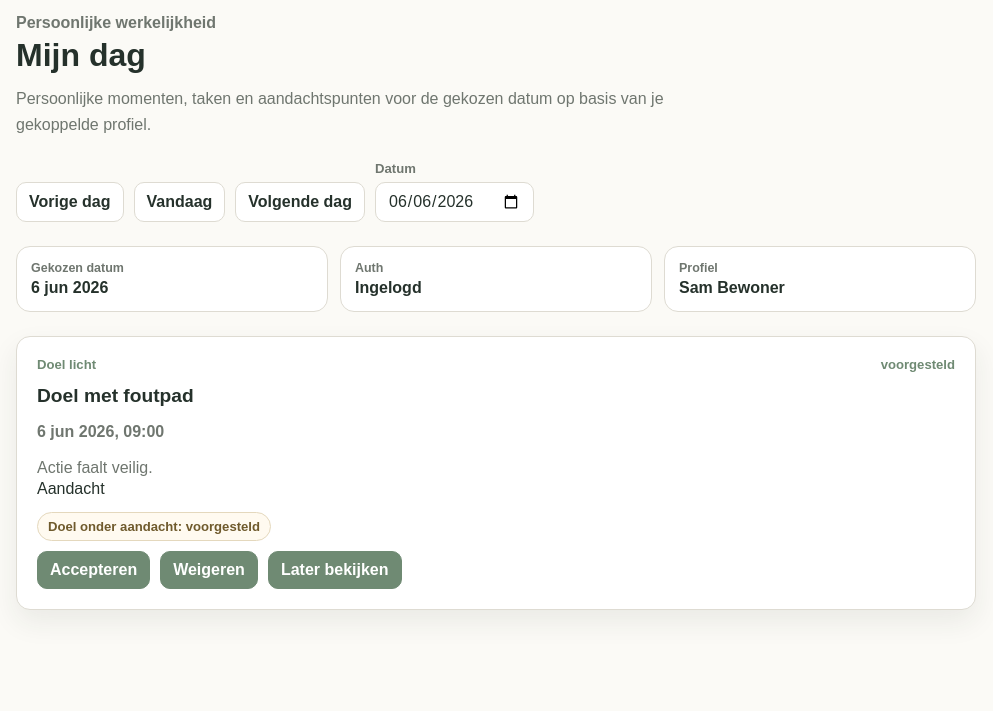
Scenario: Mijn dag overzicht › toont een rustige foutmelding wanneer een doelacceptatieactie mislukt
The width and height of the screenshot is (993, 711).
Click the button "Accepteren".
click(94, 570)  # box [37,551,150,589]
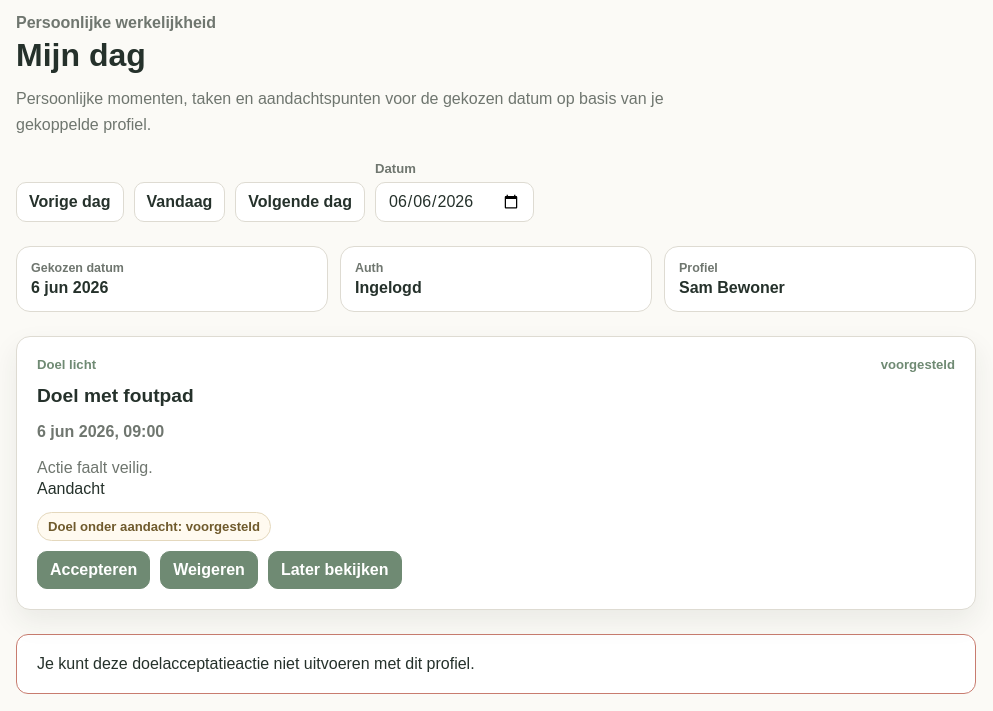
expect the text "Je kunt deze doelacceptatieactie niet uitvoeren met dit profiel." is shown: met, box [16,634,976,694]
